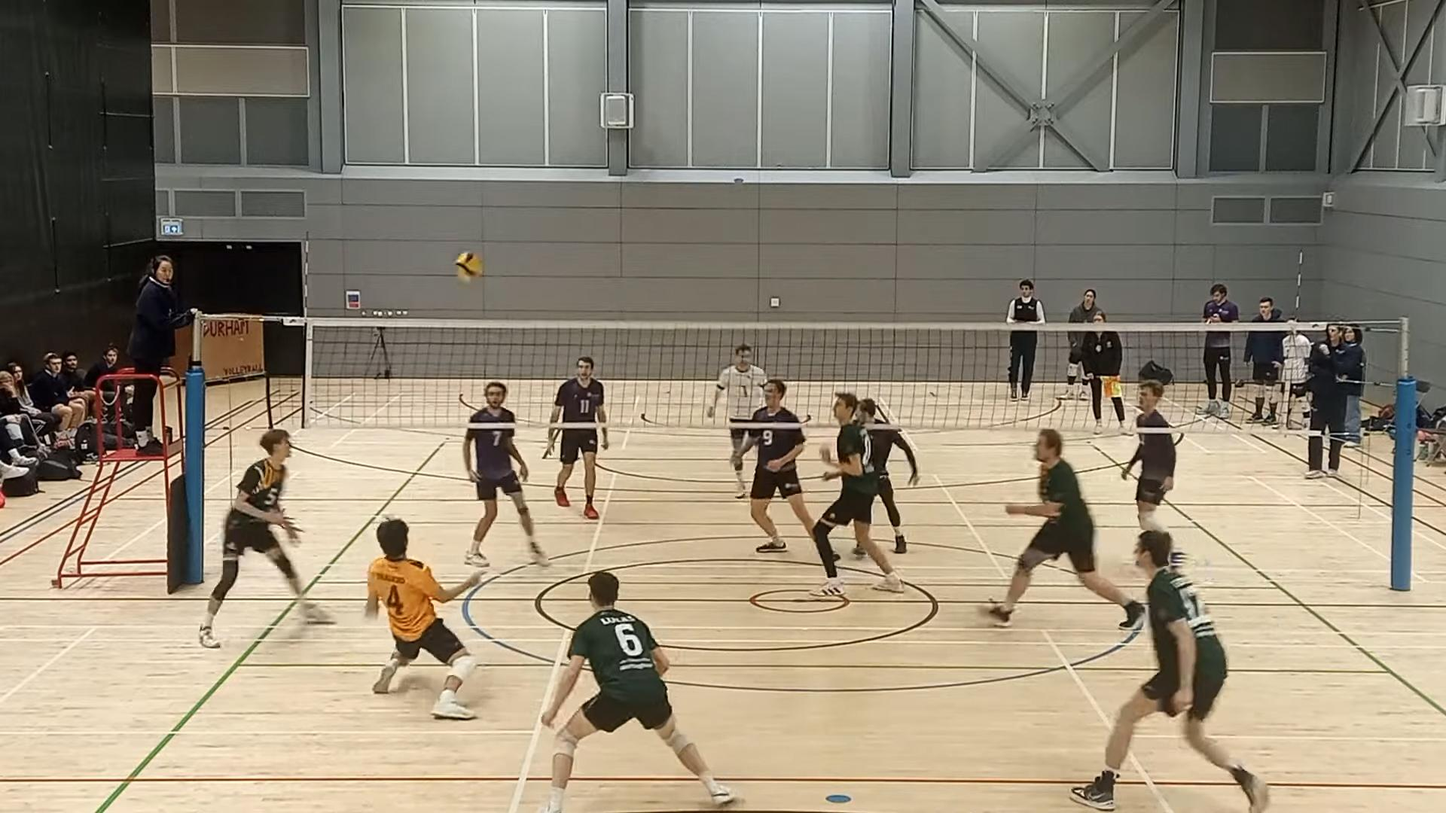Dig: (359, 504, 488, 725)
Player: (1071, 532, 1269, 812), (541, 572, 734, 812), (985, 428, 1144, 629), (198, 429, 331, 648), (810, 394, 903, 598), (462, 381, 547, 567), (733, 379, 813, 552), (545, 356, 608, 519), (706, 343, 767, 498), (859, 398, 919, 553), (1121, 380, 1176, 531)
ball: (453, 250, 481, 281)
